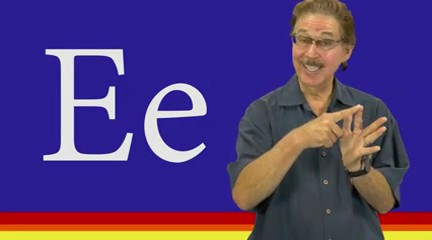E: (295, 101, 390, 170)
